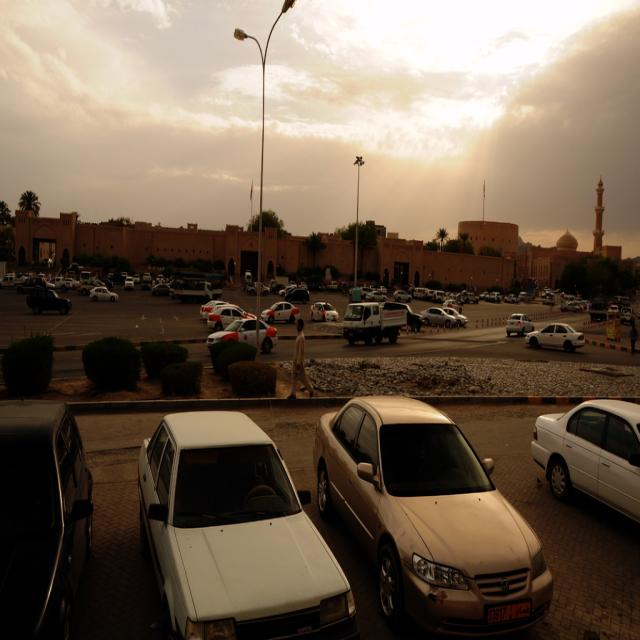car: (247, 269, 304, 299), (26, 281, 73, 313), (523, 320, 583, 345), (262, 294, 299, 320), (207, 298, 244, 322), (311, 297, 337, 320), (419, 305, 454, 321), (88, 284, 118, 298)
